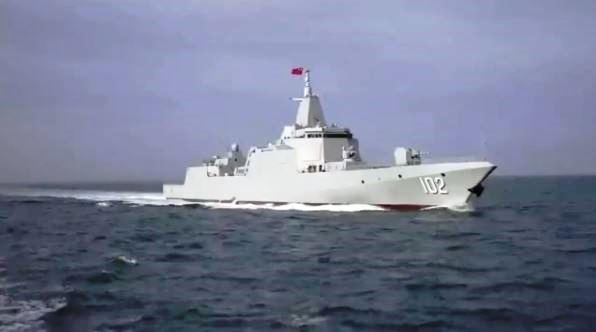MIL_Ship: (165, 63, 500, 212)
